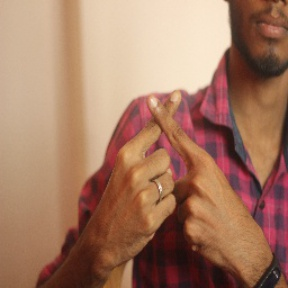X: (117, 85, 216, 182)
